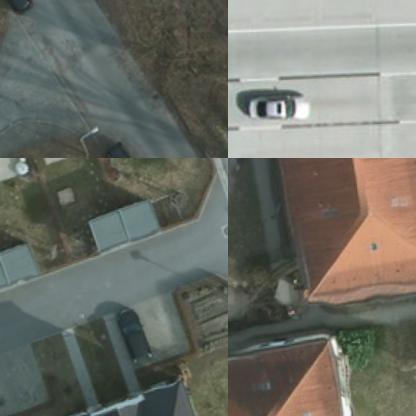car: (242, 92, 310, 121), (118, 308, 150, 364), (108, 141, 152, 157), (0, 0, 32, 18)
